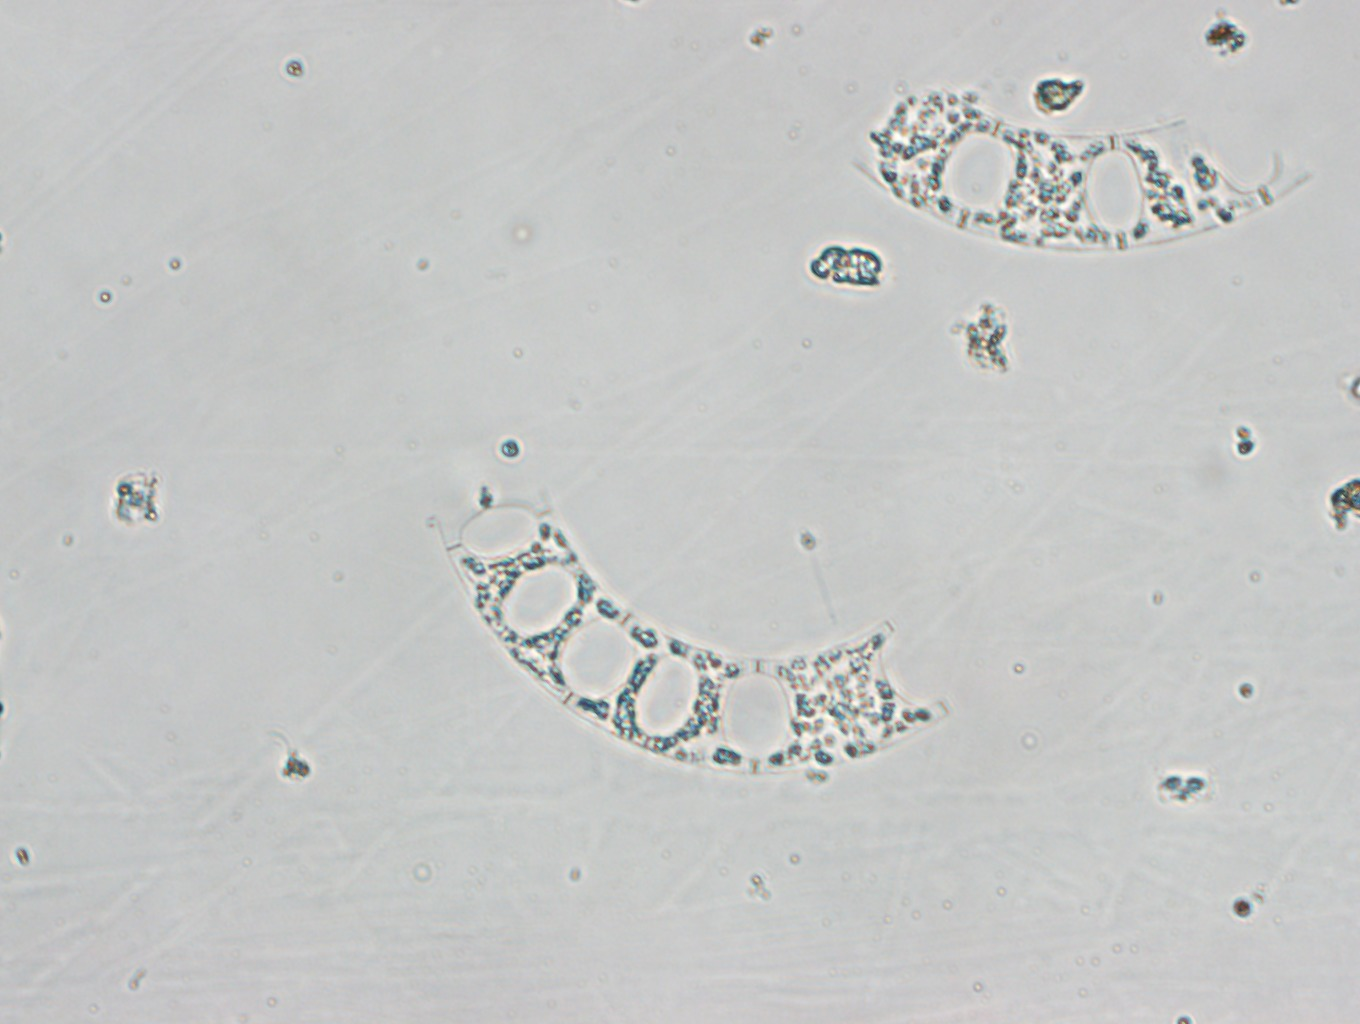eucampia: (433, 482, 949, 779), (851, 81, 1319, 252)
